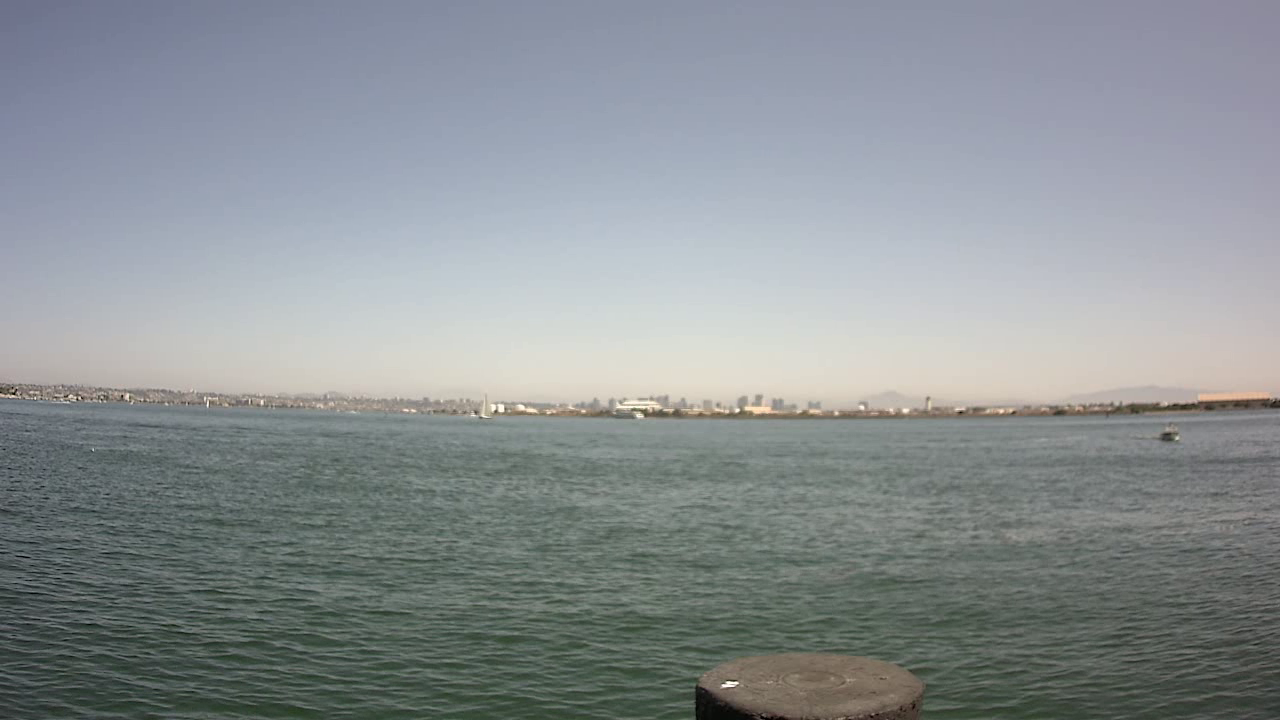target: (1147, 416, 1183, 449)
